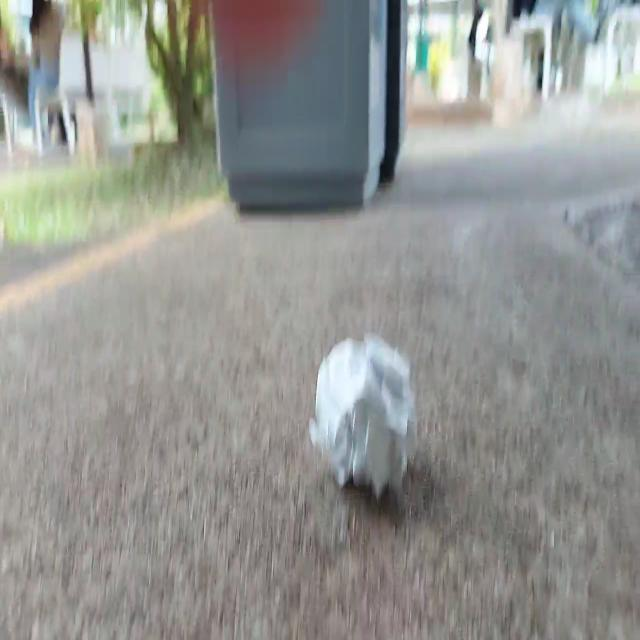Paper: (302, 316, 432, 504)
